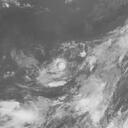cyclone: (47, 57, 72, 84)
